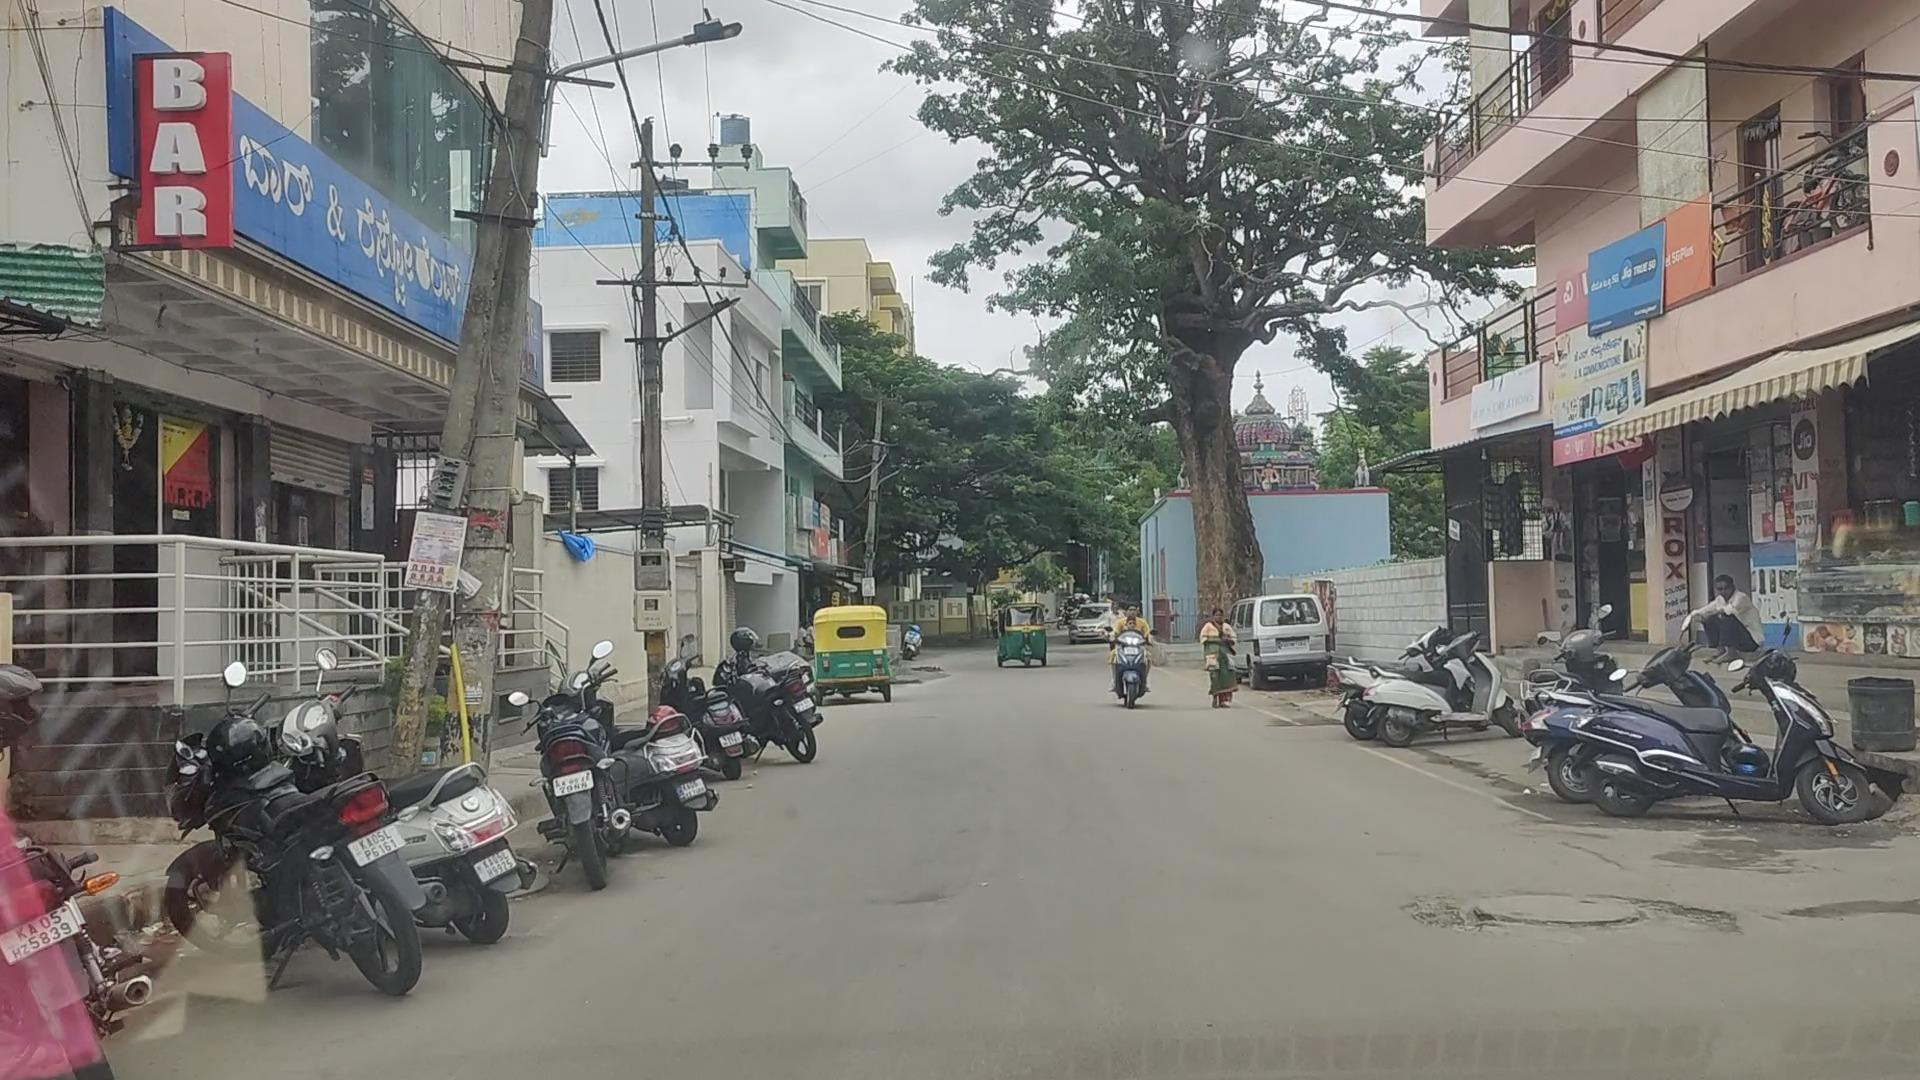RoadDamages: (1439, 865, 1753, 948)
